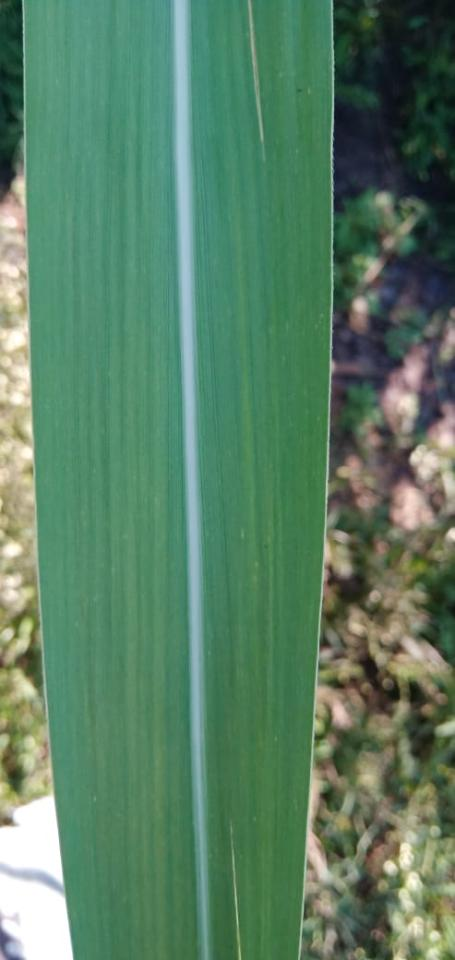Healthy: (24, 0, 332, 959)
